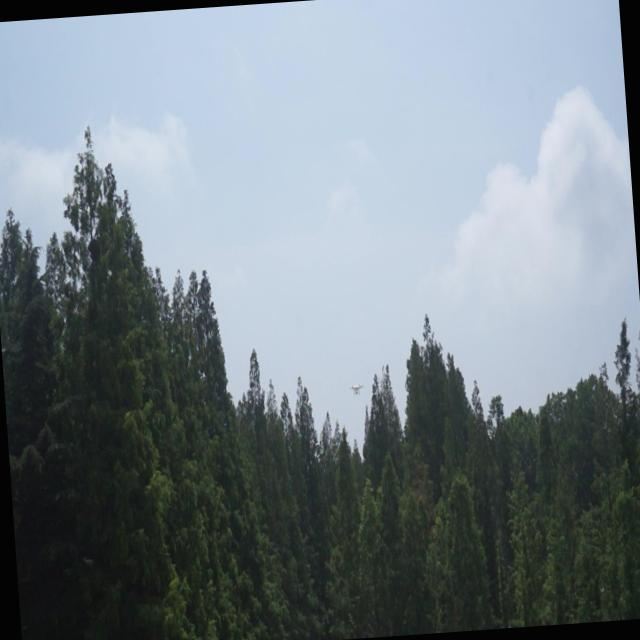drone: (345, 379, 368, 399)
